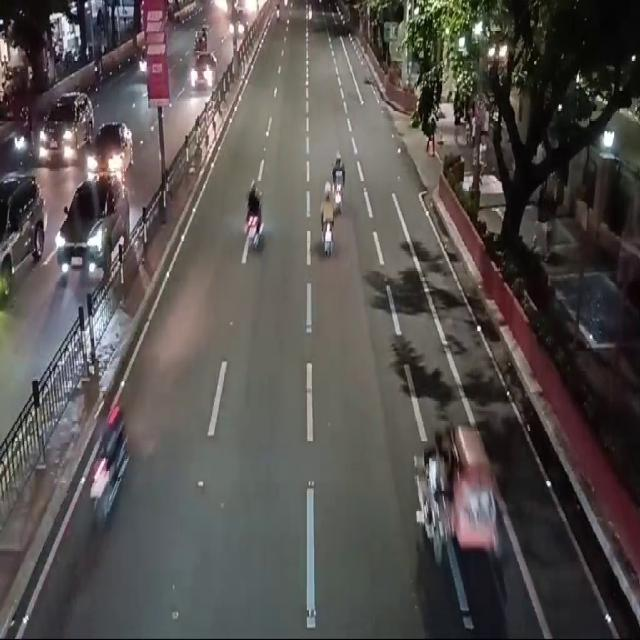car: (64, 178, 130, 275), (4, 175, 46, 293), (38, 91, 92, 163), (88, 129, 132, 184), (189, 54, 220, 90)
motorcycle: (416, 418, 503, 570), (245, 178, 264, 261), (319, 178, 336, 256), (16, 104, 31, 164), (336, 154, 349, 218)
